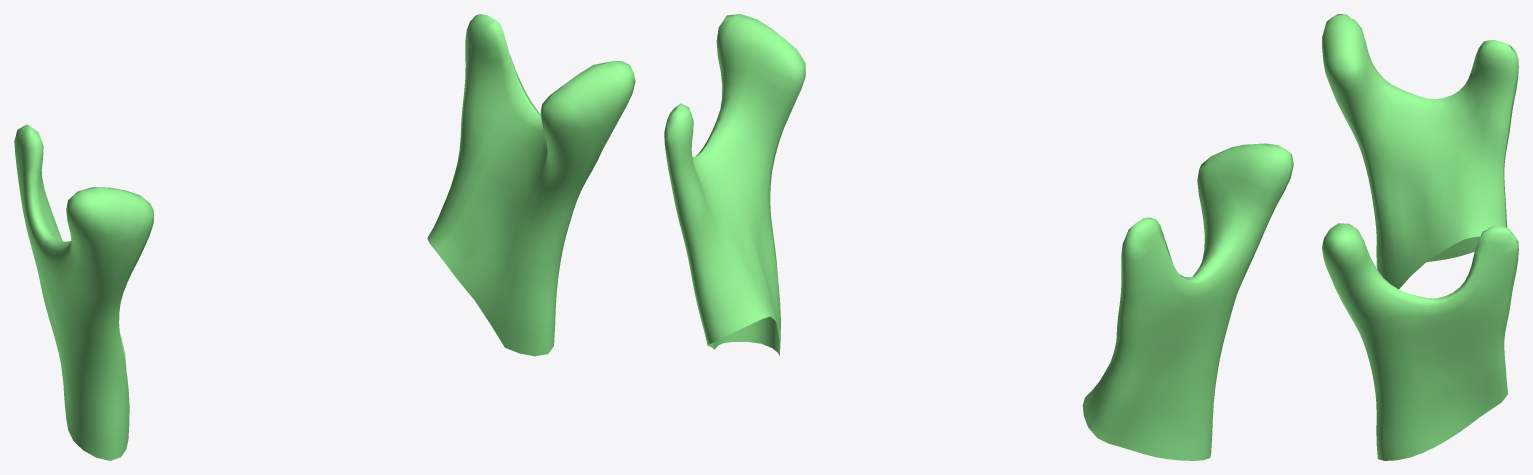
The model's file is Ramus.fbx.
3 renders of one model, left to right at view 1: azimuth 30°, elevation 25°; view 2: azimuth 150°, elevation 25°; view 3: azimuth 270°, elevation 25°, orthographic. The views are drawn at different scales.
Parts seen in each view (by area): view 1: Ramus; view 2: Ramus; view 3: Ramus.
Part boxes in pixels (x1,y1,x2,y2): Ramus: (14,14,635,460); Ramus: (664,14,1293,460); Ramus: (1322,14,1518,460).
Size of the model in its own units: 545 by 274 by 198.
